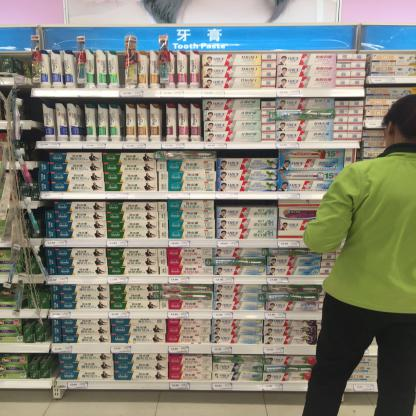Void: (222, 152, 280, 159), (21, 102, 42, 117)
